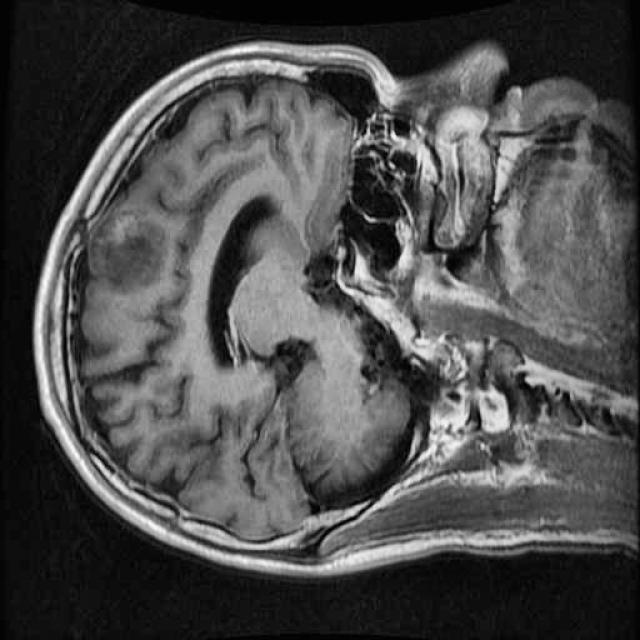Tumor: (76, 189, 176, 309)
